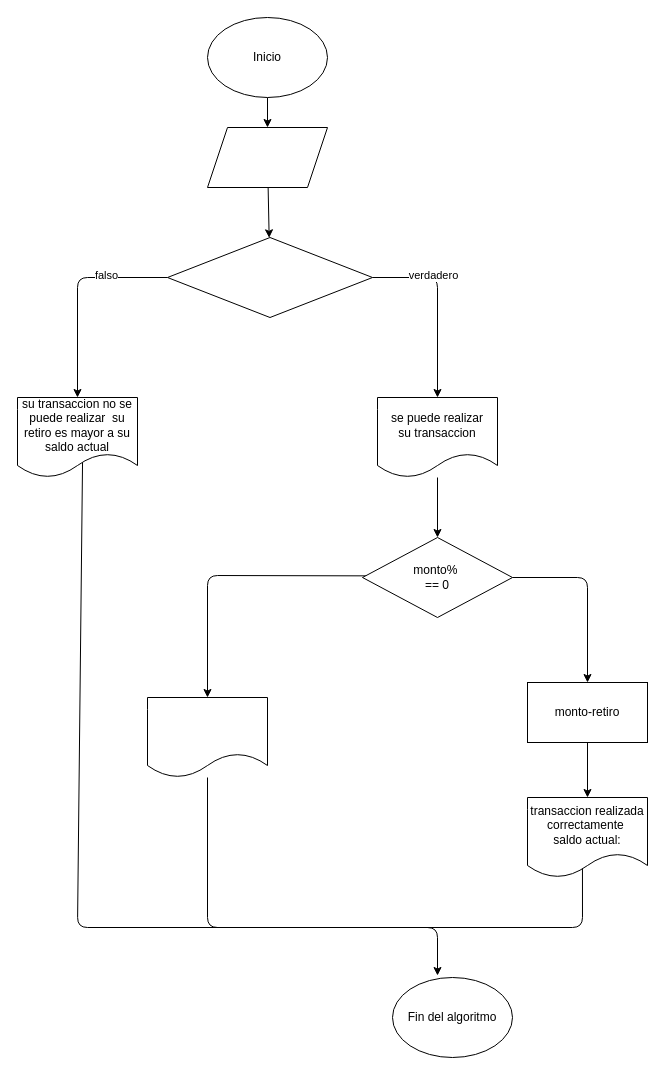
Some shapes in this 665 by 1075 pixel diagram are drawn without their labels. The box of each missing label's shape, as (x1, y1, x2, y2) in pixels:
monto. retiro: (206, 126, 328, 188)
monto>retiro: (166, 236, 372, 318)
su transaccion no se puede realizar debe ser multiplo de 10: (146, 696, 268, 778)
